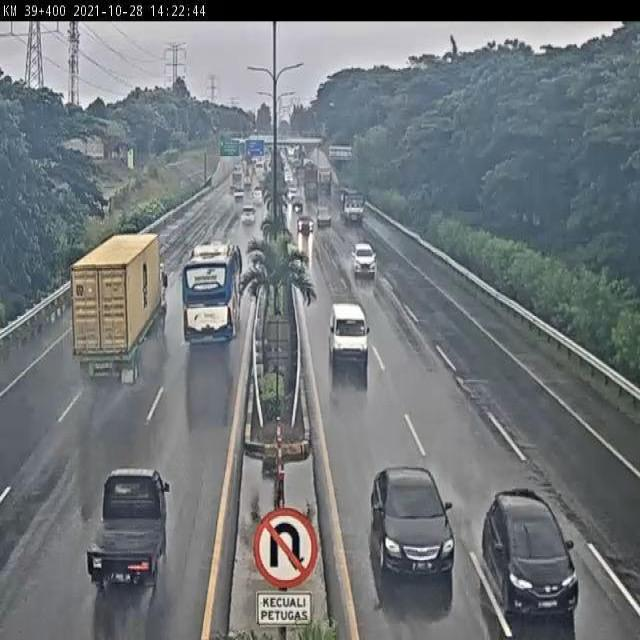bus-l-: (181, 240, 244, 347)
car: (84, 468, 176, 587)
truck-xl-: (70, 232, 167, 383)
